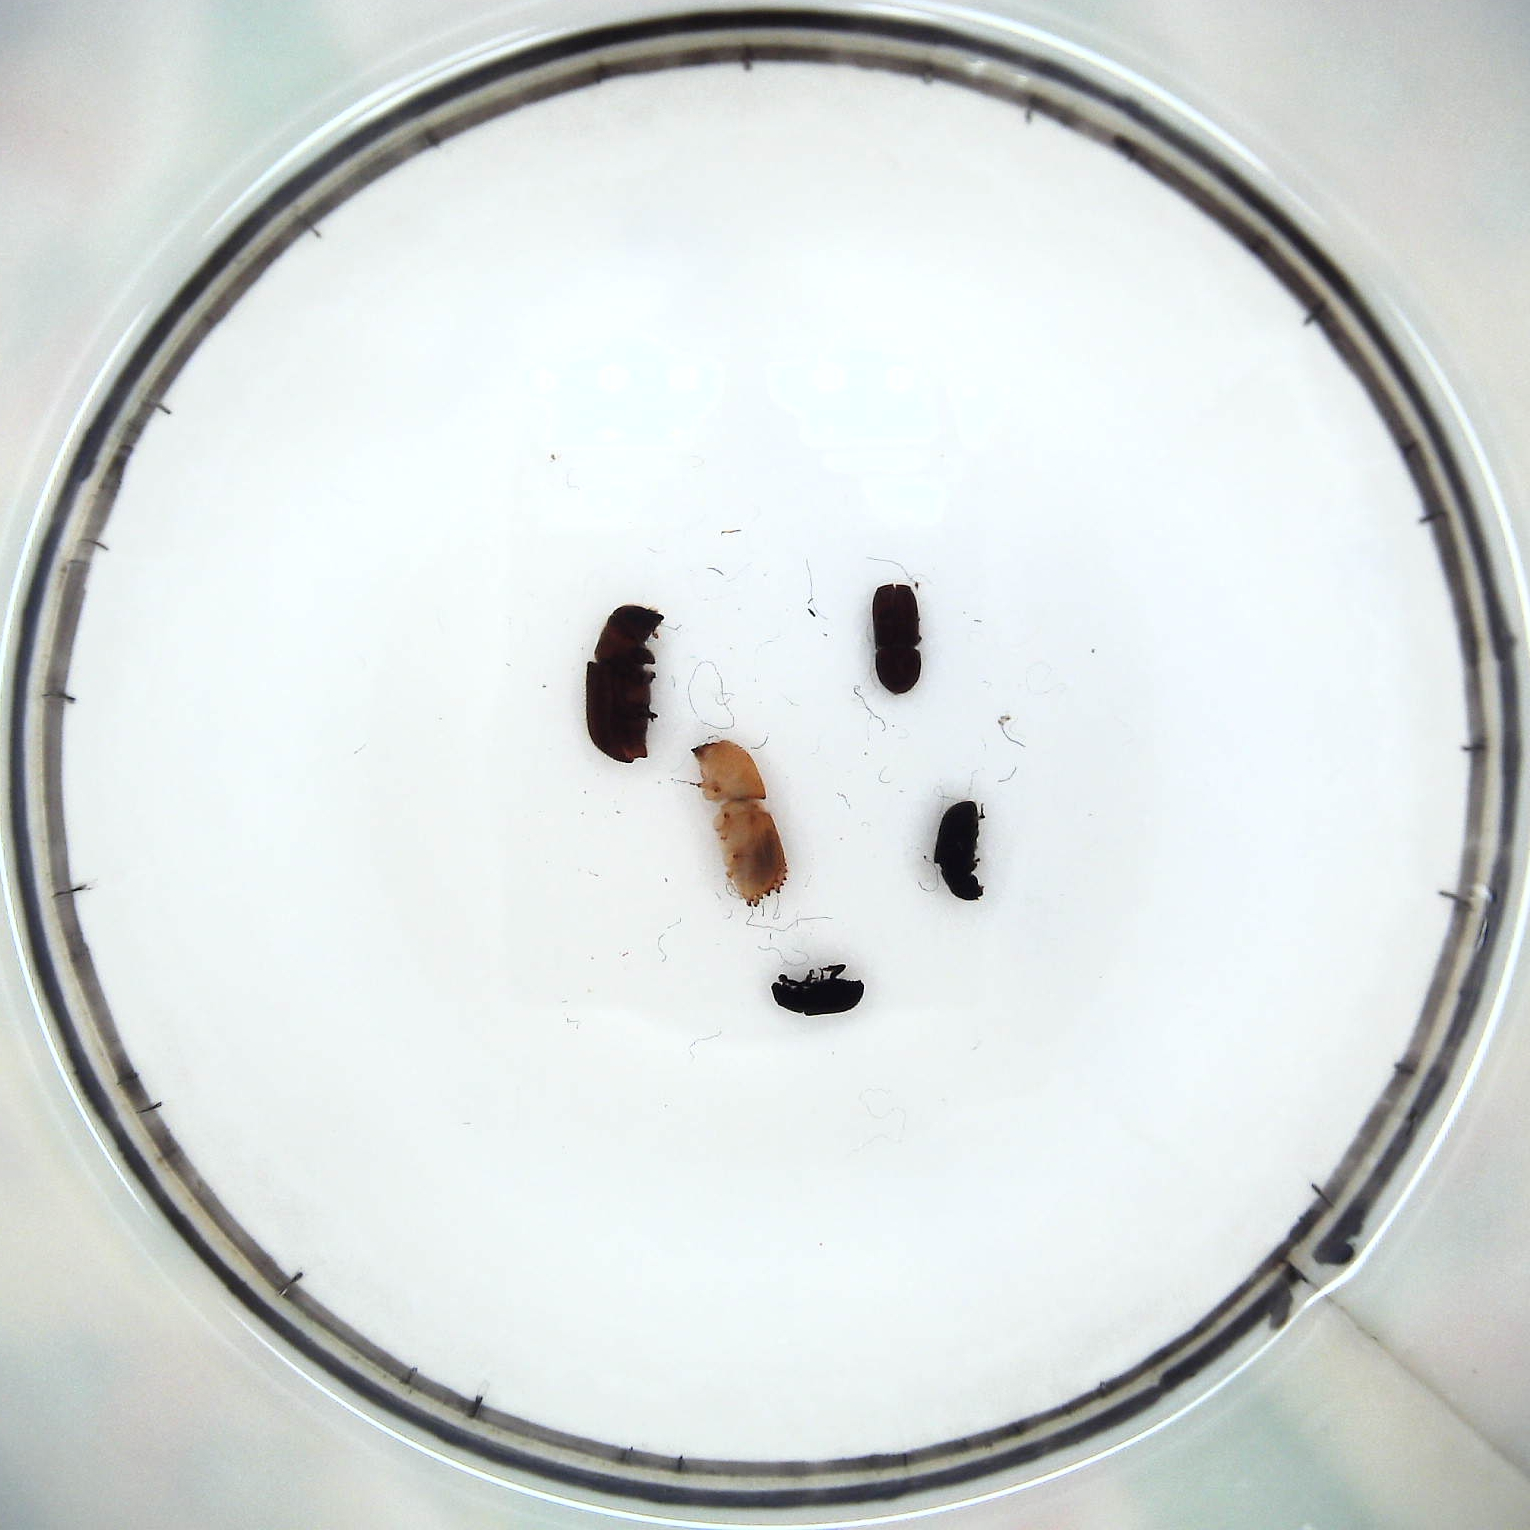Boerner: (688, 740, 792, 909)
Leconte: (586, 602, 661, 764)
Linnaeus: (873, 581, 921, 695)
armandi: (935, 801, 986, 902)
coleoptera: (765, 964, 864, 1016)
